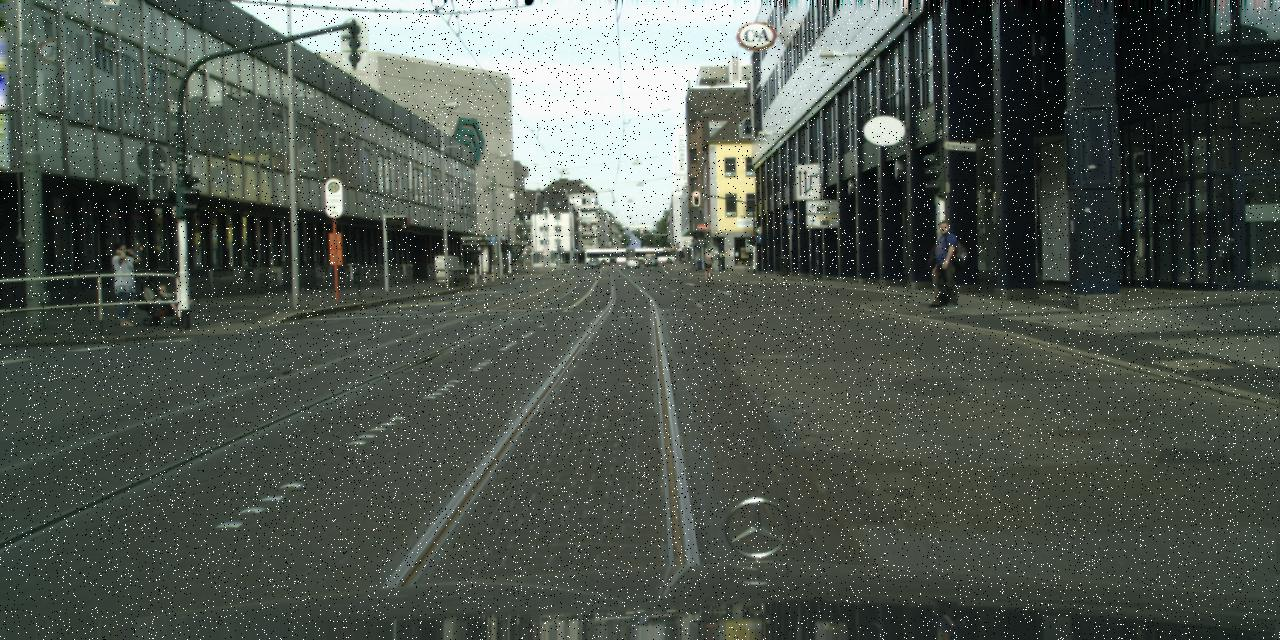ped: (929, 219, 965, 307), (105, 243, 138, 325), (924, 228, 956, 306), (704, 249, 714, 277)
